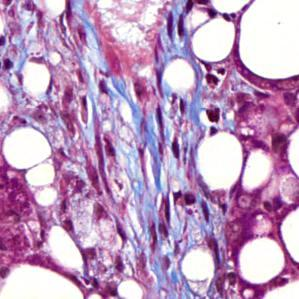steatosis: (236, 237, 283, 284), (163, 58, 196, 92)
